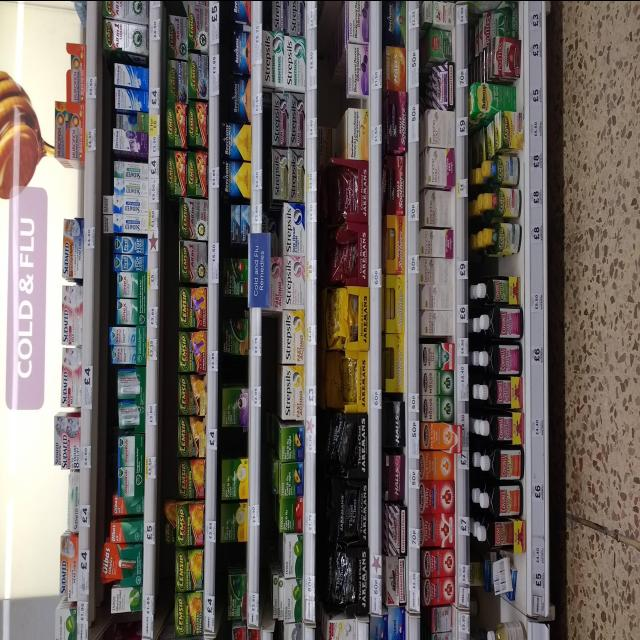empty_space: (108, 615, 140, 634), (222, 359, 246, 383), (214, 548, 242, 568), (226, 434, 244, 454)
